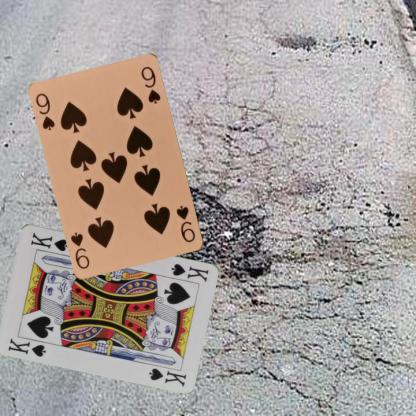9s: (33, 90, 57, 132), (173, 203, 197, 244)
Ks: (6, 336, 48, 358), (169, 261, 210, 283)
